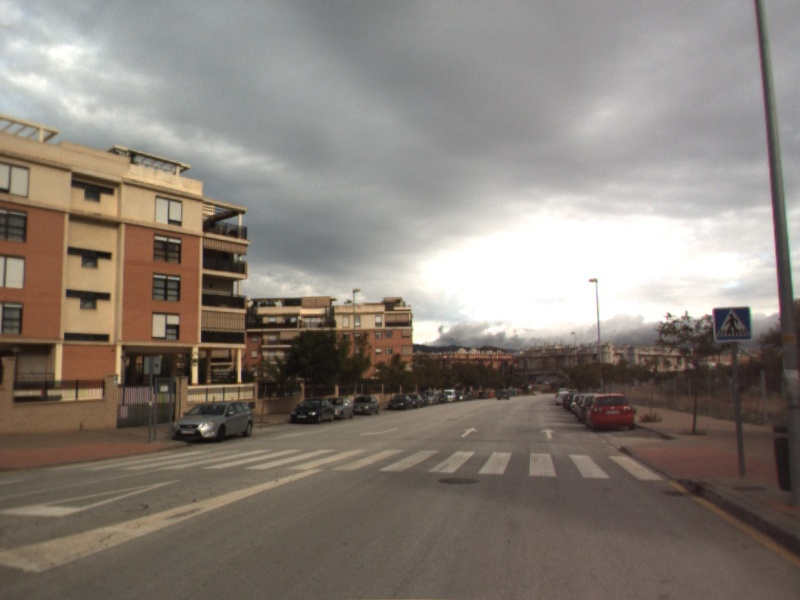STRAIGHT: (458, 425, 480, 439), (538, 426, 557, 440)
